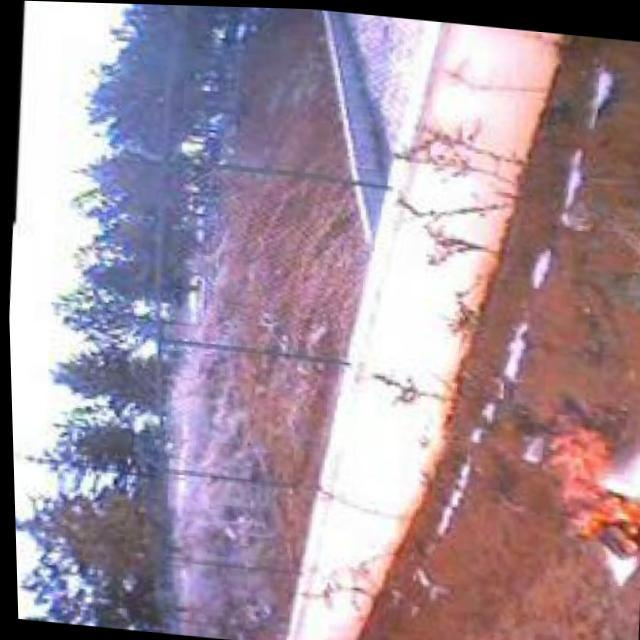fire: (534, 416, 640, 564)
